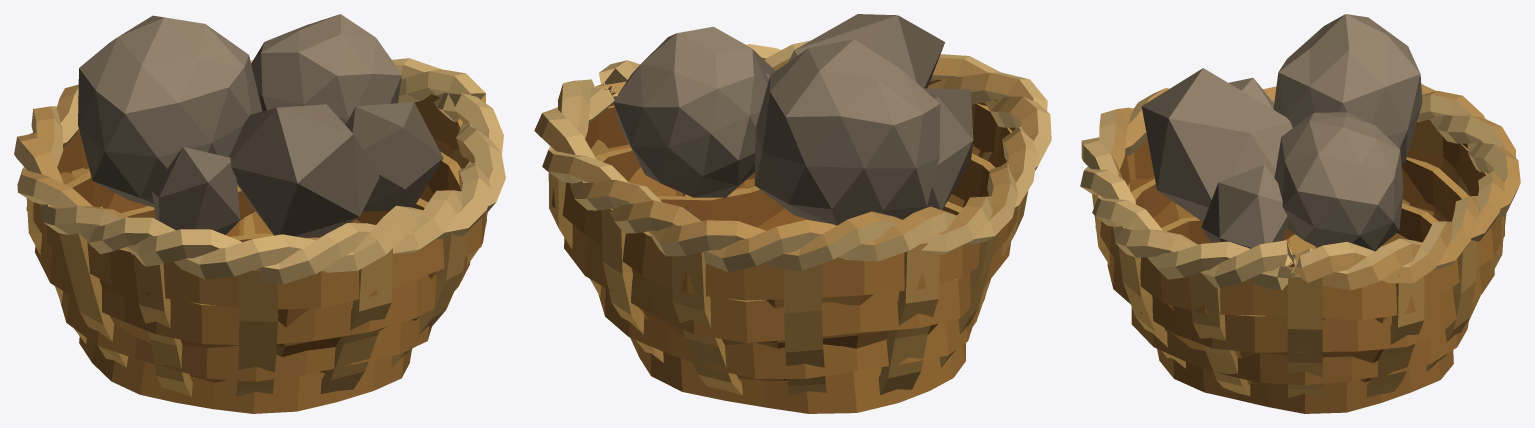
Rendered from stone_basket.glb.
3 renders of one model, left to right at view 1: azimuth 30°, elevation 25°; view 2: azimuth 150°, elevation 25°; view 3: azimuth 270°, elevation 25°, orthographic. The views are drawn at different scales.
Visible parts, largest first — view 1: stone_basket; view 2: stone_basket; view 3: stone_basket.
Part boxes in pixels (box(x1,y1,x2,y2)): stone_basket: box(14, 14, 505, 413); stone_basket: box(534, 14, 1051, 413); stone_basket: box(1080, 14, 1520, 413).
Bounding box in the file's own units: 1.39 × 1.03 × 1.33.
